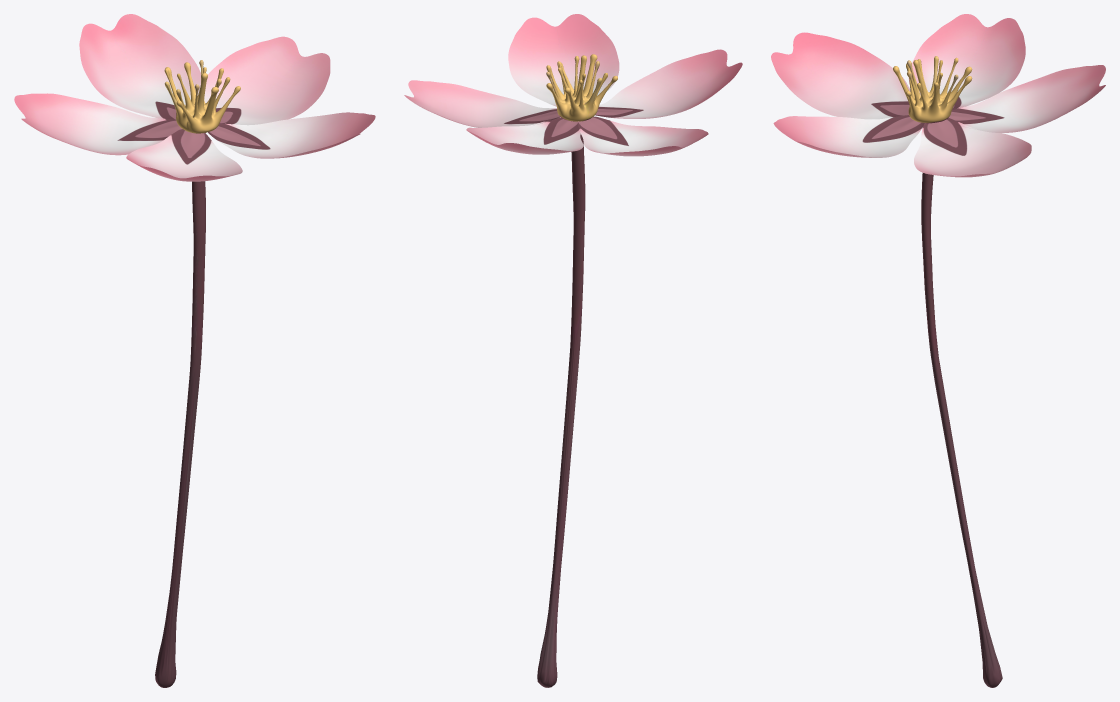
File: sakura.glb
3 views of the same model, side by side, from view 1: azimuth 30°, elevation 25°; view 2: azimuth 150°, elevation 25°; view 3: azimuth 270°, elevation 25° (orthographic). The views are drawn at different scales.
Visible parts, largest first — view 1: Plane_4; view 2: Plane_4; view 3: Plane_4.
Boxes of the visible parts, x1=… form: Plane_4: x1=14, y1=14, x2=375, y2=687; Plane_4: x1=404, y1=14, x2=742, y2=687; Plane_4: x1=771, y1=14, x2=1105, y2=687.
Bounding box in the file's own units: 3.61 × 7.15 × 3.47.
1 material, 1 textured.
